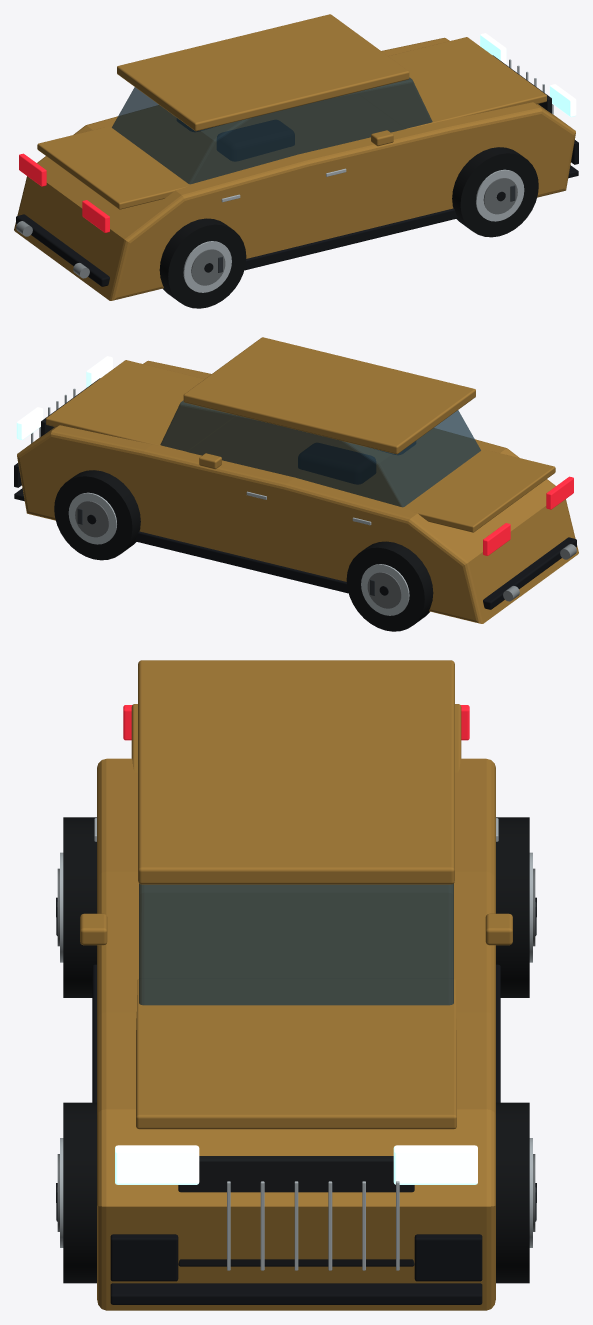
Rendered from goldline-suv.glb.
3 renders of one model, top to bottom at view 1: azimuth 30°, elevation 25°; view 2: azimuth 150°, elevation 25°; view 3: azimuth 270°, elevation 25°, orthographic. The views are drawn at different scales.
Parts seen in each view (by area): view 1: sculpted_body, roof, glasshouse, hood_center, rear_deck, rear_right_wheel_tire, front_right_wheel_tire, side_skirt_1, seat_1, rear_diffuser, rear_right_wheel_rim, front_right_wheel_rim (+6 smaller); view 2: sculpted_body, roof, glasshouse, hood_center, rear_deck, rear_left_wheel_tire, front_left_wheel_tire, side_skirt_-1, seat_-1, rear_diffuser, rear_left_wheel_rim, front_left_wheel_rim (+6 smaller); view 3: sculpted_body, roof, hood_center, glasshouse, front_grille, front_splitter, front_left_wheel_tire, front_right_wheel_tire, rear_left_wheel_tire, rear_right_wheel_tire, headlight_right, headlight_left (+5 smaller).
Boxes of the visible parts, <box> form: sculpted_body: <box>14,37,575,300</box>; roof: <box>117,14,409,131</box>; glasshouse: <box>112,77,432,184</box>; hood_center: <box>357,37,546,129</box>; rear_deck: <box>37,126,189,209</box>; rear_right_wheel_tire: <box>159,218,246,308</box>; front_right_wheel_tire: <box>452,147,538,237</box>; side_skirt_1: <box>244,208,457,270</box>; seat_1: <box>217,120,294,160</box>; rear_diffuser: <box>16,214,109,286</box>; rear_right_wheel_rim: <box>183,241,231,292</box>; front_right_wheel_rim: <box>476,169,524,221</box>; sculpted_body: <box>17,360,578,623</box>; roof: <box>183,337,475,454</box>; glasshouse: <box>160,400,480,507</box>; hood_center: <box>46,360,235,452</box>; rear_deck: <box>403,449,555,532</box>; rear_left_wheel_tire: <box>346,541,433,631</box>; front_left_wheel_tire: <box>54,470,140,560</box>; side_skirt_-1: <box>135,531,348,593</box>; seat_-1: <box>298,443,375,483</box>; rear_diffuser: <box>483,537,576,609</box>; rear_left_wheel_rim: <box>361,564,409,615</box>; front_left_wheel_rim: <box>68,492,116,544</box>; sculpted_body: <box>97,758,495,1310</box>; roof: <box>138,660,454,884</box>; hood_center: <box>136,979,456,1129</box>; glasshouse: <box>139,883,453,1005</box>; front_grille: <box>178,1156,414,1266</box>; front_splitter: <box>110,1283,482,1304</box>; front_left_wheel_tire: <box>496,1102,529,1283</box>; front_right_wheel_tire: <box>63,1102,96,1283</box>; rear_left_wheel_tire: <box>496,817,529,997</box>; rear_right_wheel_tire: <box>63,817,96,997</box>; headlight_right: <box>115,1145,199,1184</box>; headlight_left: <box>393,1145,477,1184</box>.
Size of the model in its own units: 5.37 by 1.77 by 2.29.
